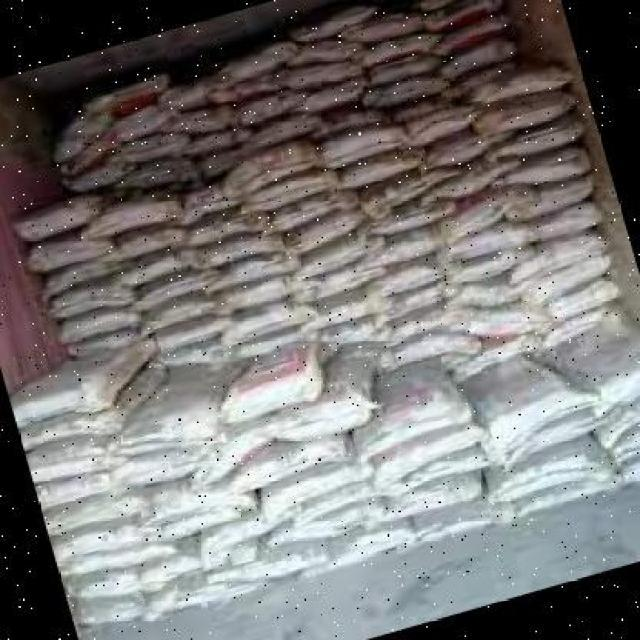gunny_bag: (366, 417, 487, 488), (484, 383, 594, 457), (227, 430, 358, 491), (489, 440, 611, 503), (203, 114, 307, 182), (354, 398, 468, 460), (261, 458, 367, 523), (493, 472, 618, 525), (515, 248, 615, 314), (500, 408, 601, 473), (477, 82, 583, 143), (69, 584, 196, 633), (62, 558, 196, 604), (43, 485, 161, 537), (183, 567, 303, 617), (380, 446, 489, 501), (206, 537, 348, 579), (183, 423, 279, 485), (267, 390, 376, 444), (57, 540, 176, 589), (382, 470, 487, 525), (10, 187, 106, 247), (519, 224, 609, 287), (449, 322, 539, 385), (82, 189, 190, 241), (111, 437, 221, 488), (220, 144, 314, 203), (267, 500, 380, 549), (205, 29, 293, 91), (266, 187, 364, 242), (492, 113, 592, 166), (437, 186, 522, 248), (225, 376, 316, 433), (468, 59, 570, 109), (303, 524, 401, 576), (289, 478, 384, 530), (190, 508, 294, 555), (544, 298, 627, 356), (26, 436, 124, 485), (363, 165, 467, 211), (242, 168, 336, 216), (547, 273, 627, 328), (121, 413, 223, 456), (385, 327, 480, 373), (511, 170, 595, 222), (35, 465, 127, 512), (448, 30, 531, 82), (288, 206, 367, 260), (438, 8, 517, 61), (220, 298, 302, 349), (298, 261, 385, 308), (151, 480, 246, 523), (298, 232, 382, 280), (401, 502, 492, 546), (58, 303, 151, 346), (210, 250, 300, 294), (21, 408, 109, 453), (338, 0, 430, 43), (367, 198, 459, 241), (521, 199, 601, 248), (342, 146, 423, 194), (315, 123, 399, 169), (357, 222, 444, 266), (50, 281, 147, 320), (293, 1, 375, 47), (11, 382, 98, 425), (448, 218, 529, 264), (106, 218, 188, 263), (52, 529, 146, 568), (400, 103, 472, 153), (388, 302, 460, 352), (362, 69, 449, 110), (192, 533, 273, 577), (109, 159, 202, 197), (301, 285, 381, 328), (463, 301, 551, 340), (87, 83, 168, 125), (148, 316, 229, 358), (195, 231, 282, 270), (140, 267, 217, 311), (182, 208, 266, 248), (289, 53, 368, 95), (450, 245, 527, 288), (43, 254, 113, 300), (431, 159, 511, 199), (28, 235, 106, 276), (363, 26, 434, 70), (123, 130, 194, 174), (441, 275, 520, 314), (223, 273, 298, 314), (52, 107, 110, 160), (366, 47, 440, 88), (211, 64, 281, 107), (285, 33, 373, 67), (516, 150, 592, 189), (419, 130, 487, 173), (142, 296, 221, 333), (382, 282, 445, 328), (428, 0, 504, 38), (62, 327, 143, 362), (154, 103, 237, 137), (58, 132, 118, 179), (311, 101, 385, 139), (150, 336, 226, 373), (61, 154, 129, 195), (440, 161, 511, 199), (117, 252, 193, 287), (295, 74, 358, 116), (389, 86, 458, 123), (318, 319, 385, 357), (388, 251, 444, 296), (241, 88, 299, 130), (113, 102, 171, 141), (179, 179, 232, 219), (591, 372, 640, 414), (591, 407, 640, 449), (151, 77, 217, 106), (198, 121, 251, 155), (608, 430, 640, 470), (618, 458, 640, 494)
